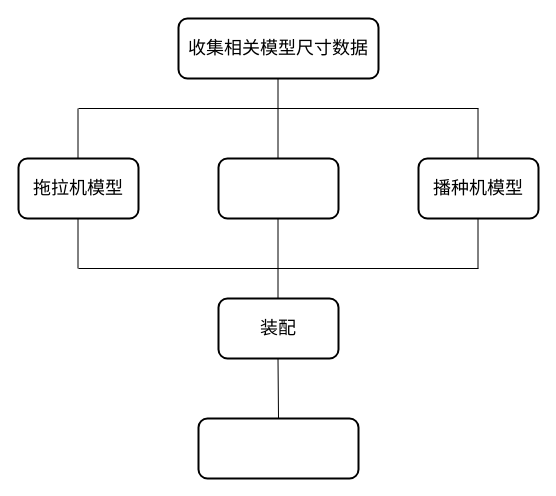
Some shapes in this 556 by 496 pixel diagram are drawn without their labels. Each missing label, with the centre of its shape:
作业机组三维模型: (x=278, y=448)
悬挂件模型: (x=278, y=188)
